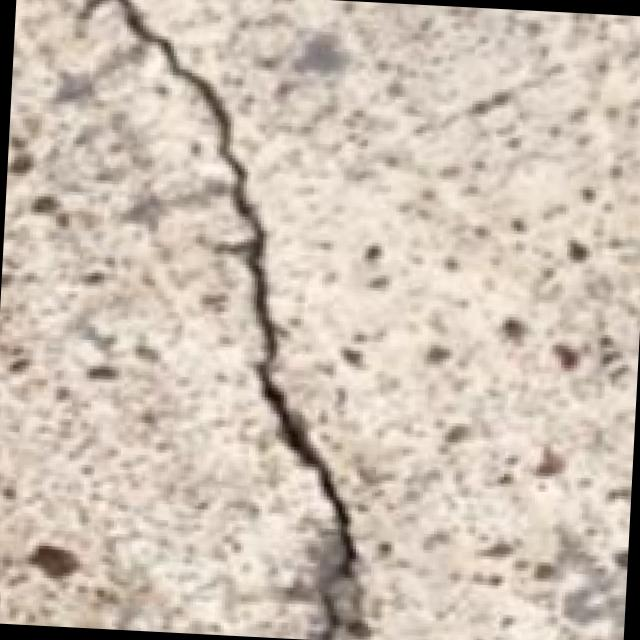crack: (73, 0, 435, 640)
